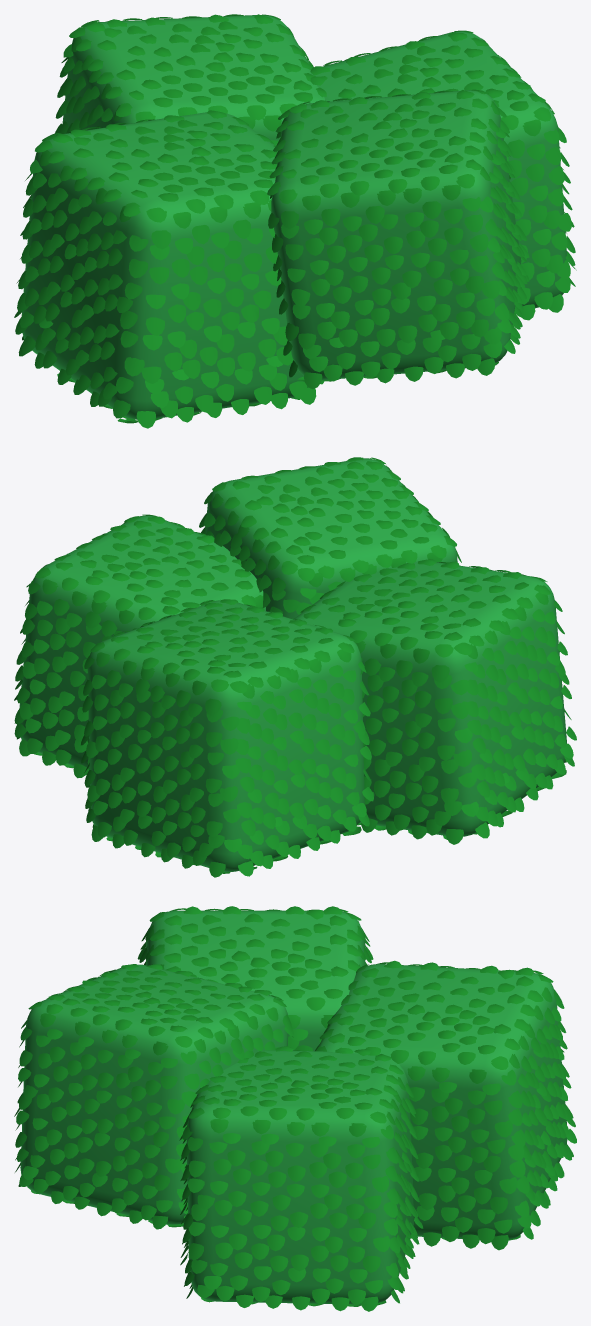
File: TreeLeaf1.fbx
The picture shows the model from 3 angles, top to bottom: view 1: azimuth 30°, elevation 25°; view 2: azimuth 150°, elevation 25°; view 3: azimuth 270°, elevation 25°; orthographic projection. The views are drawn at different scales.
Parts seen in each view (by area): view 1: Leaf_Geo, Leaf_Geo.003, TreeCube_Geo, TreeCube_Geo.003, TreeCube_Geo.002, Leaf_Geo.002, Leaf_Geo.001, TreeCube_Geo.001; view 2: Leaf_Geo.002, TreeCube_Geo.002, Leaf_Geo, TreeCube_Geo, Leaf_Geo.001, TreeCube_Geo.001, TreeCube_Geo.003, Leaf_Geo.003; view 3: Leaf_Geo.001, TreeCube_Geo.001, Leaf_Geo.002, TreeCube_Geo.003, Leaf_Geo.003, TreeCube_Geo.002, TreeCube_Geo, Leaf_Geo.
Part boxes in pixels (box(x1,y1,x2,y2)): Leaf_Geo: box(14, 110, 324, 428); Leaf_Geo.003: box(267, 89, 529, 389); TreeCube_Geo: box(21, 112, 307, 419); TreeCube_Geo.003: box(271, 90, 521, 380); TreeCube_Geo.002: box(62, 15, 324, 140); Leaf_Geo.002: box(55, 14, 326, 145); Leaf_Geo.001: box(310, 30, 576, 320); TreeCube_Geo.001: box(310, 31, 566, 308); Leaf_Geo.002: box(81, 599, 373, 877); TreeCube_Geo.002: box(87, 600, 364, 871); Leaf_Geo: box(300, 559, 576, 844); TreeCube_Geo: box(293, 561, 566, 836); Leaf_Geo.001: box(14, 514, 263, 778); TreeCube_Geo.001: box(19, 516, 265, 769); TreeCube_Geo.003: box(205, 458, 457, 618); Leaf_Geo.003: box(199, 457, 461, 619); Leaf_Geo.001: box(179, 1046, 423, 1311); TreeCube_Geo.001: box(186, 1050, 413, 1304); Leaf_Geo.002: box(315, 960, 576, 1250); TreeCube_Geo.003: box(20, 964, 288, 1224); Leaf_Geo.003: box(14, 964, 293, 1229); TreeCube_Geo.002: box(318, 964, 567, 1239); TreeCube_Geo: box(146, 910, 365, 1051); Leaf_Geo: box(137, 906, 373, 1051).
Size of the model in its own units: 704 by 349 by 734.
